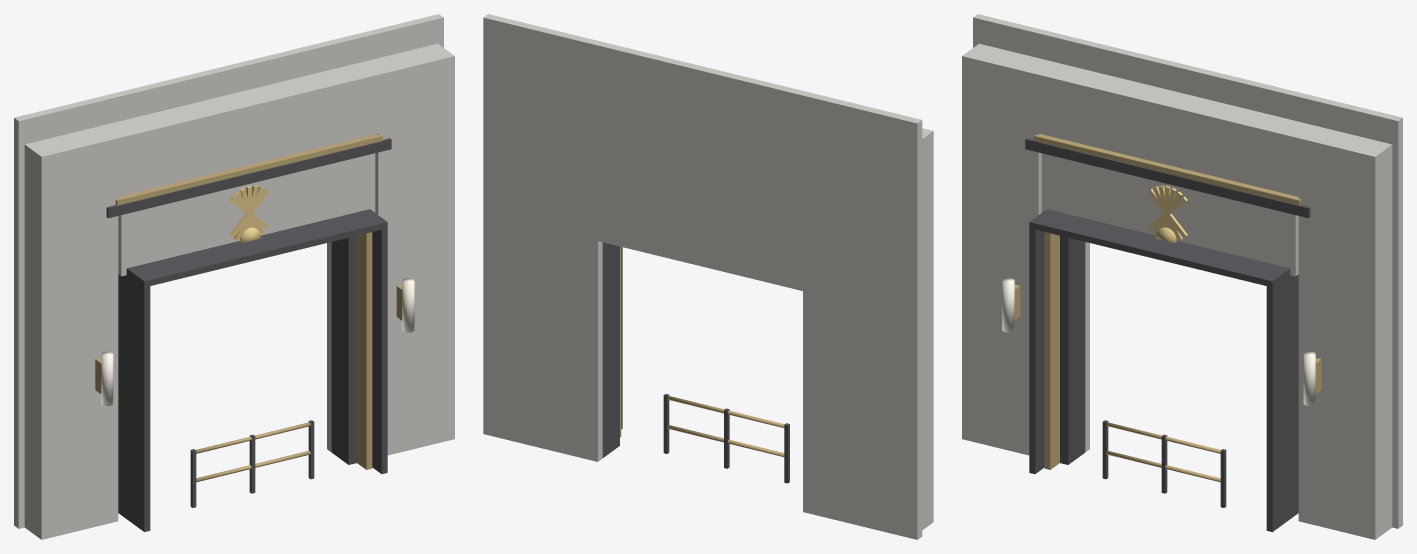
Rendered from modern.glb.
3 renders of one model, left to right at view 1: azimuth 30°, elevation 25°; view 2: azimuth 150°, elevation 25°; view 3: azimuth 330°, elevation 25°, orthographic. The views are drawn at different scales.
Visible parts, largest first — view 1: Wall_field, Wall_shoulder, Wall_shoulder.001, Wall_transom, Dark_frameJ.002, Wall_backL, Wall_backHdr, Dark_frameL.001, Dark_frameJ.001, Wall_backR, Dark_frameJ.003, Bronze_frameJ.001 (+6 smaller); view 2: Wall_backL, Wall_backR, Wall_backHdr, Wall_shoulder, Dark_frameJ.001, Wall_field, Bronze_bar, Bronze_bar.001; view 3: Wall_field, Wall_shoulder.001, Wall_shoulder, Wall_transom, Dark_frameJ.003, Wall_backR, Wall_backHdr, Dark_frameL.001, Dark_frameJ, Wall_backL, Dark_frameJ.002, Bronze_frameJ (+6 smaller).
Boxes of the visible parts, left/top/right/bottom form: Wall_field: left=24, top=43, right=454, bottom=215; Wall_shoulder: left=24, top=197, right=118, bottom=539; Wall_shoulder.001: left=375, top=115, right=454, bottom=455; Wall_transom: left=118, top=153, right=375, bottom=276; Dark_frameJ.002: left=118, top=274, right=150, bottom=531; Wall_backL: left=14, top=90, right=130, bottom=528; Wall_backHdr: left=126, top=41, right=331, bottom=118; Dark_frameL.001: left=126, top=209, right=387, bottom=287; Dark_frameJ.001: left=331, top=236, right=356, bottom=464; Wall_backR: left=327, top=14, right=443, bottom=452; Dark_frameJ.003: left=372, top=228, right=387, bottom=473; Bronze_frameJ.001: left=357, top=232, right=372, bottom=469; Wall_backL: left=803, top=92, right=922, bottom=539; Wall_backR: left=483, top=14, right=602, bottom=461; Wall_backHdr: left=598, top=42, right=807, bottom=290; Wall_shoulder: left=922, top=191, right=933, bottom=530; Dark_frameJ.001: left=602, top=242, right=619, bottom=457; Wall_field: left=922, top=128, right=933, bottom=198; Bronze_bar: left=667, top=425, right=784, bottom=456; Bronze_bar.001: left=667, top=396, right=784, bottom=427; Wall_field: left=962, top=43, right=1392, bottom=215; Wall_shoulder.001: left=1298, top=197, right=1392, bottom=539; Wall_shoulder: left=962, top=115, right=1041, bottom=455; Wall_transom: left=1041, top=153, right=1298, bottom=276; Dark_frameJ.003: left=1266, top=274, right=1298, bottom=531; Wall_backR: left=1286, top=90, right=1402, bottom=528; Wall_backHdr: left=1085, top=41, right=1290, bottom=118; Dark_frameL.001: left=1029, top=209, right=1290, bottom=287; Dark_frameJ: left=1060, top=236, right=1085, bottom=464; Wall_backL: left=973, top=14, right=1089, bottom=452; Dark_frameJ.002: left=1029, top=228, right=1044, bottom=473; Bronze_frameJ: left=1044, top=232, right=1059, bottom=469.
Bounding box in the file's own units: 7.2 × 6.6 × 1.16.
